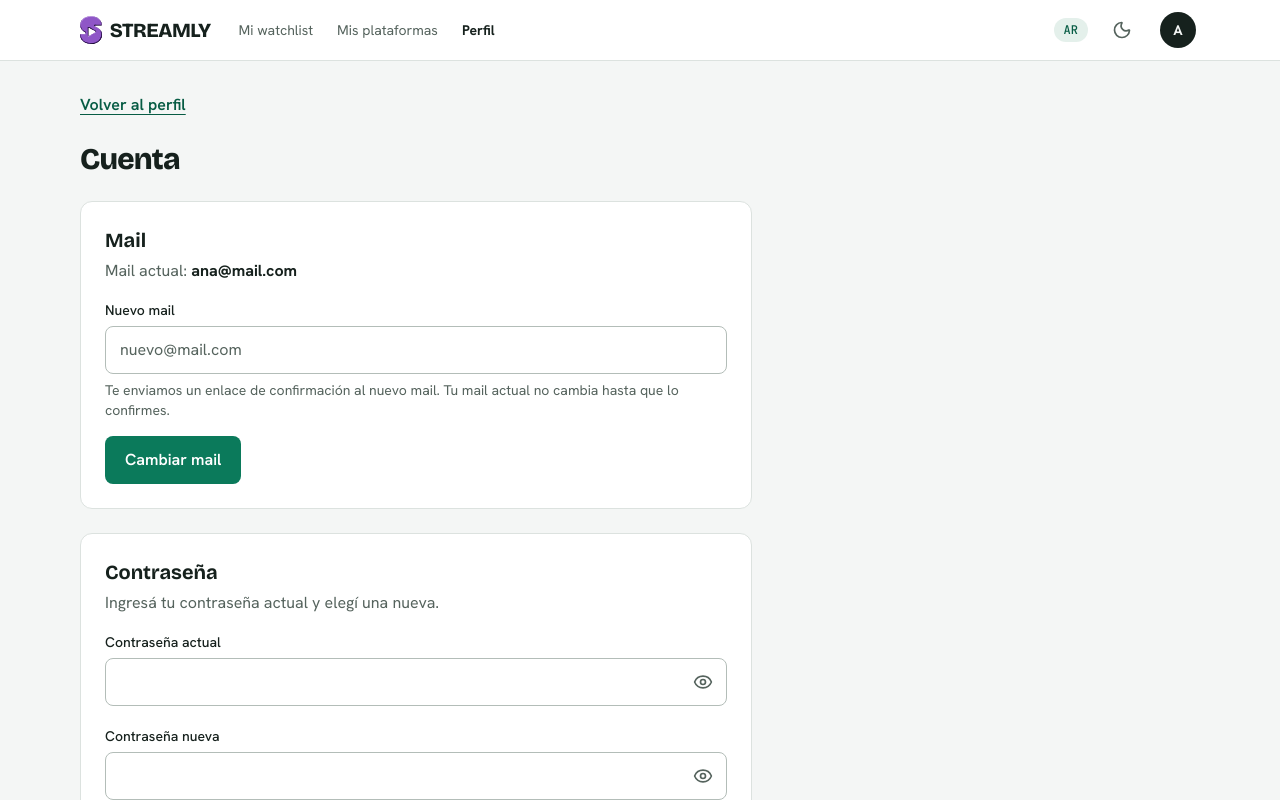
it: Cuenta: cambiar contraseña › cambia la contraseña y lo confirma
In the password field labelled "Contraseña actual": (416, 682) x1=105 y1=658 x2=727 y2=706, type "Segura#2026"
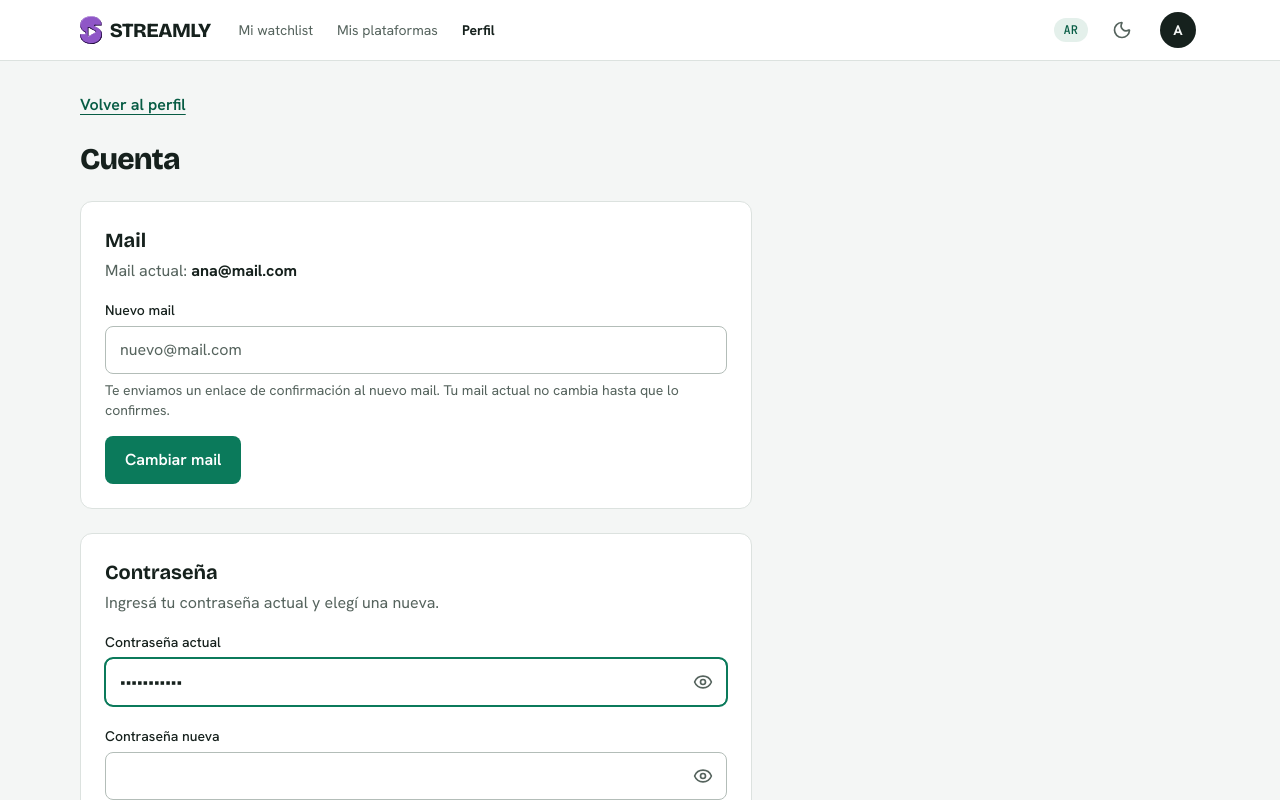
In the password field labelled "Contraseña nueva": (416, 776) x1=105 y1=752 x2=727 y2=799, type "Nueva#2026"
(page scrolled)
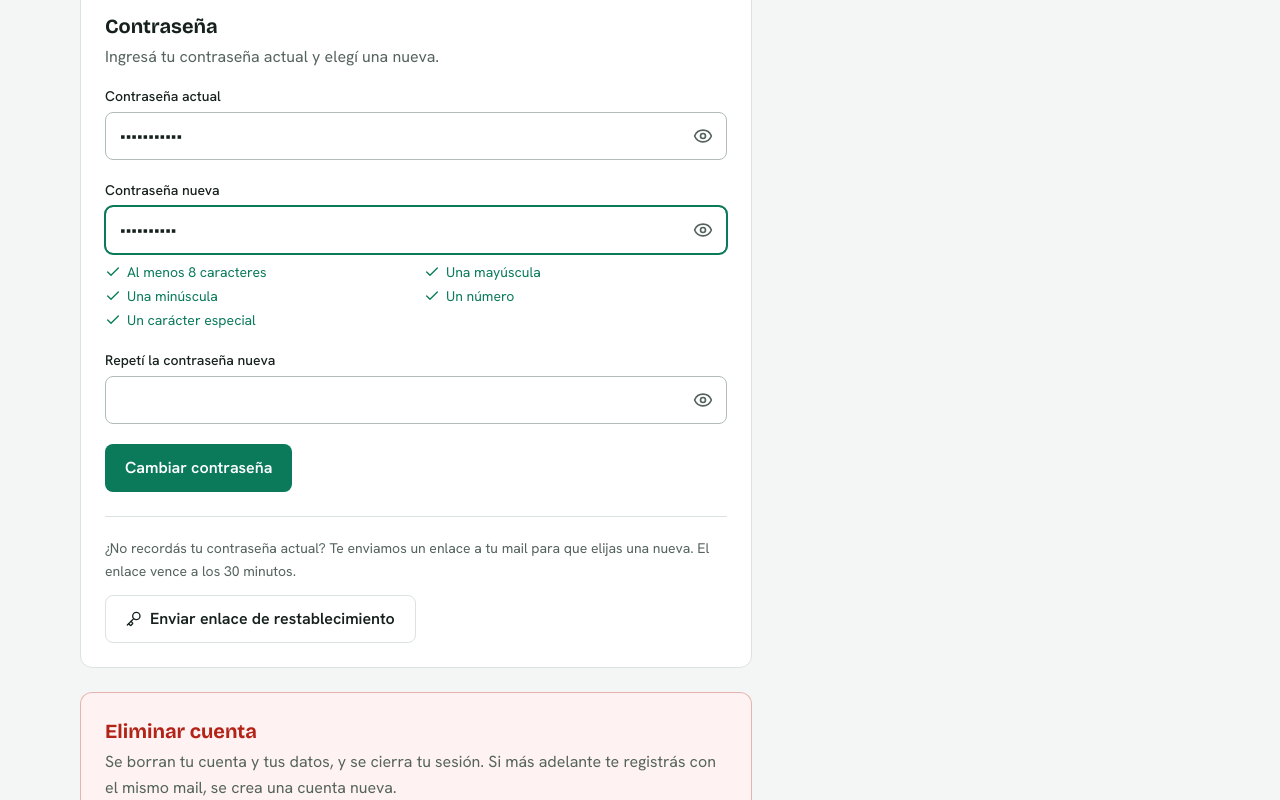
In the password field labelled "Repetí la contraseña nueva": (416, 400) x1=105 y1=376 x2=727 y2=424, type "Nueva#2026"
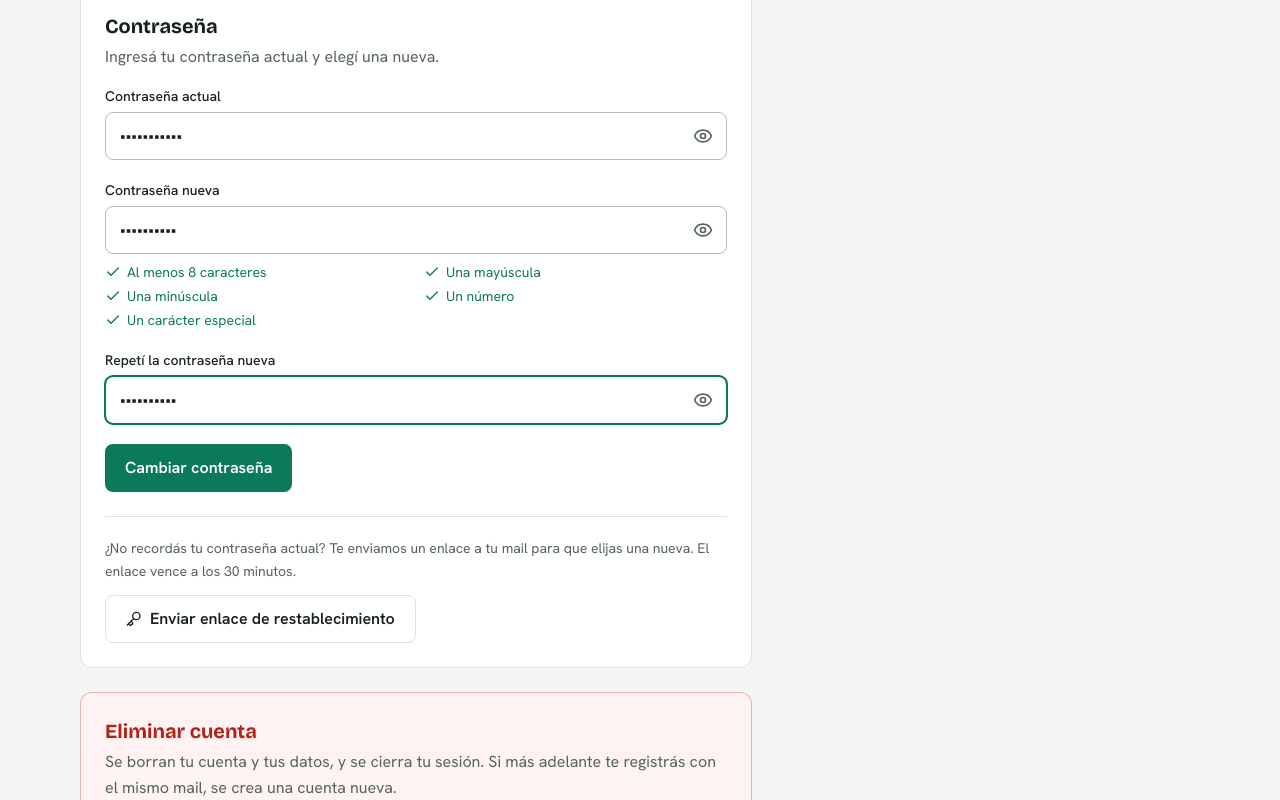
Click the button "Cambiar contraseña": click(199, 468) x1=105 y1=444 x2=292 y2=492
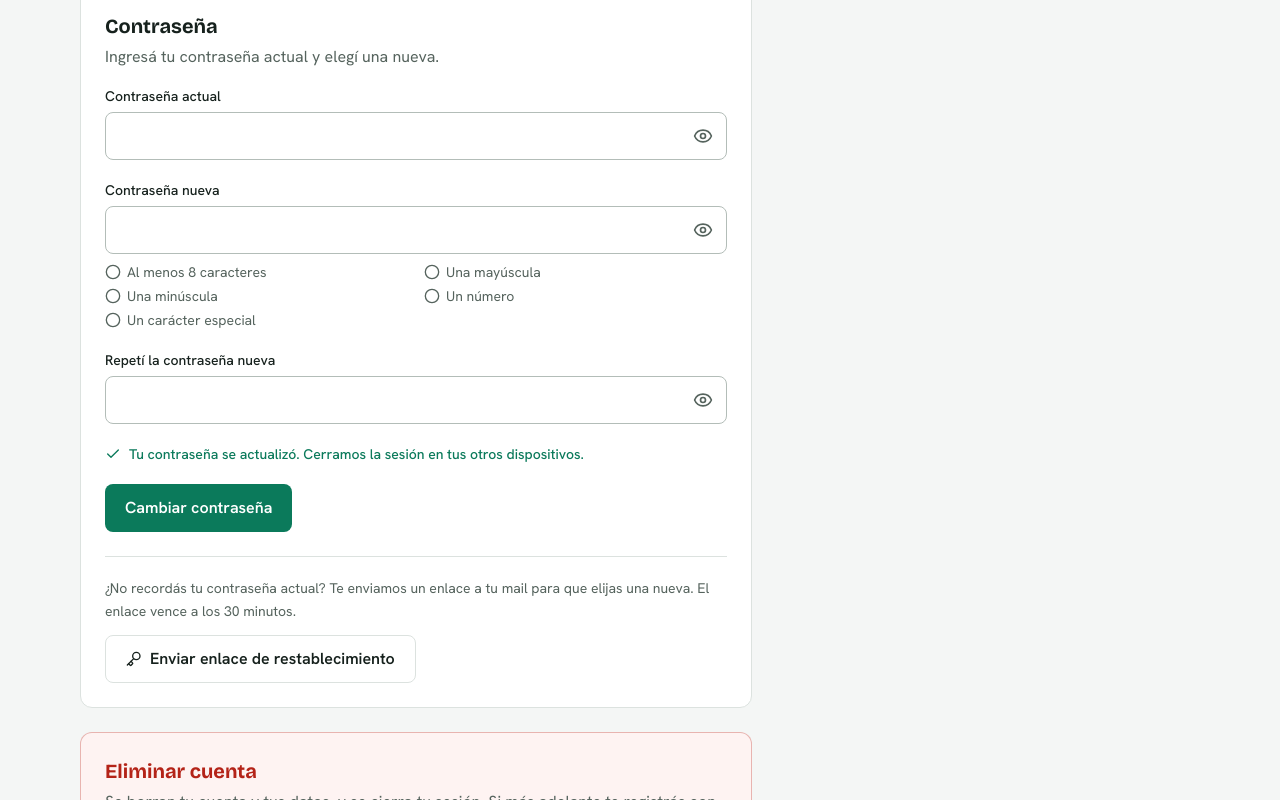
expect the message shows "Tu contraseña se actualizó": met, box x1=129 y1=445 x2=584 y2=463
expect the password field labelled "Contraseña actual" is empty: met, box x1=105 y1=112 x2=727 y2=160
